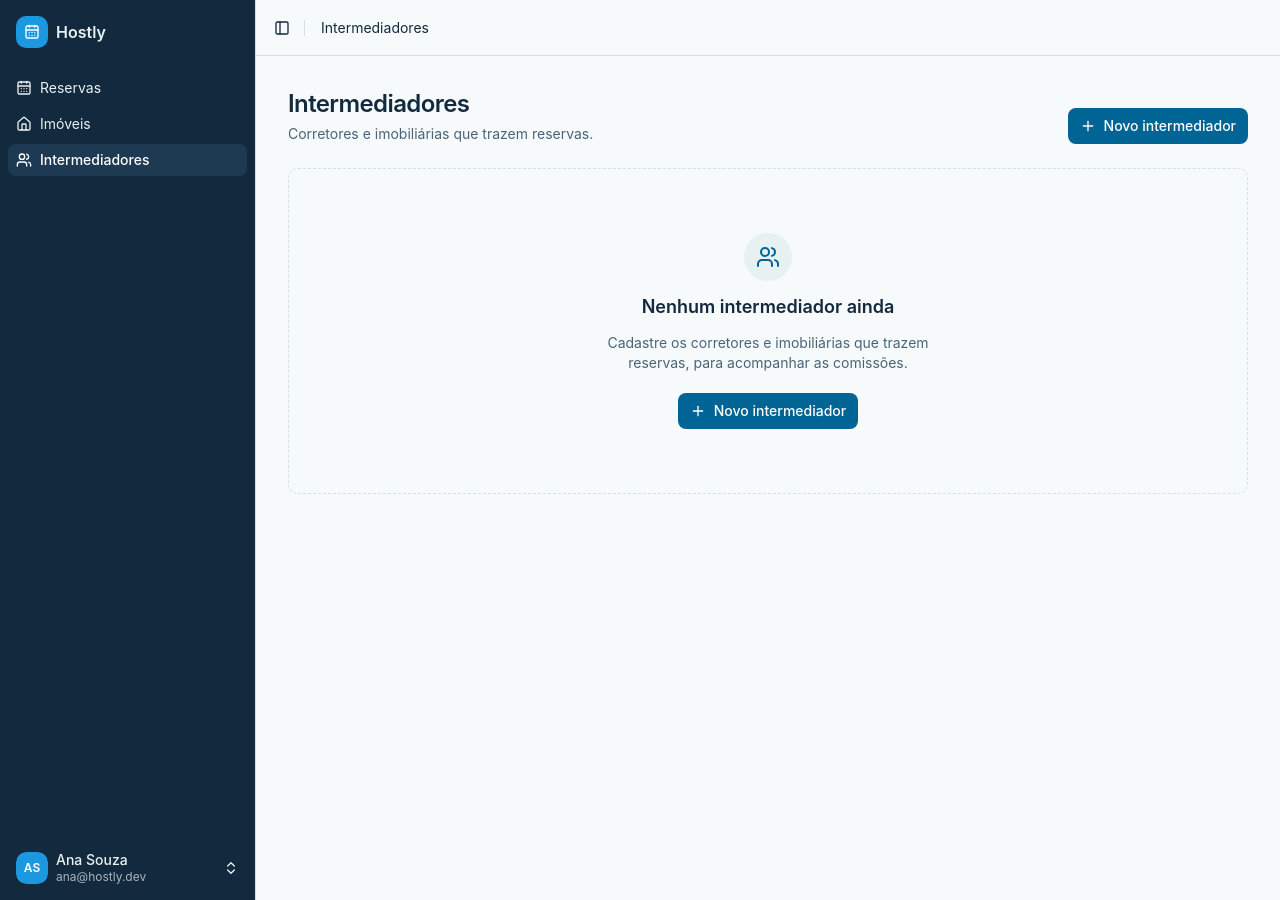
it: creating a broker › keeps an alphanumeric CNPJ through a switch to person and back
Expected: the heading "Intermediadores" is shown, [288,89,469,118]
Click the 1st button "Novo intermediador".
click(1158, 126)  # box [1068,108,1248,144]
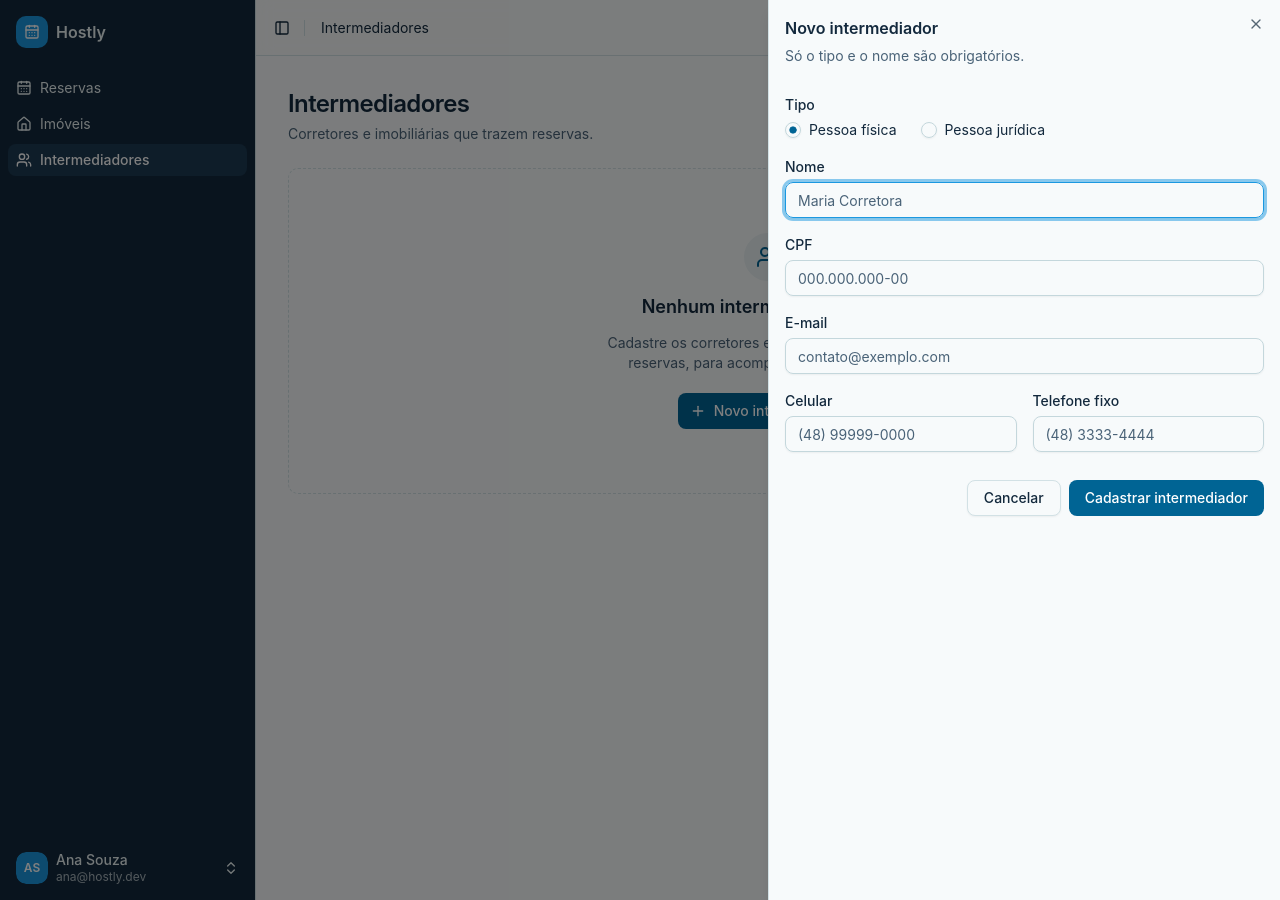
Click the radio button named "Pessoa jurídica" next to "Pessoa jurídica".
click(928, 130)  # box [920,122,936,138]
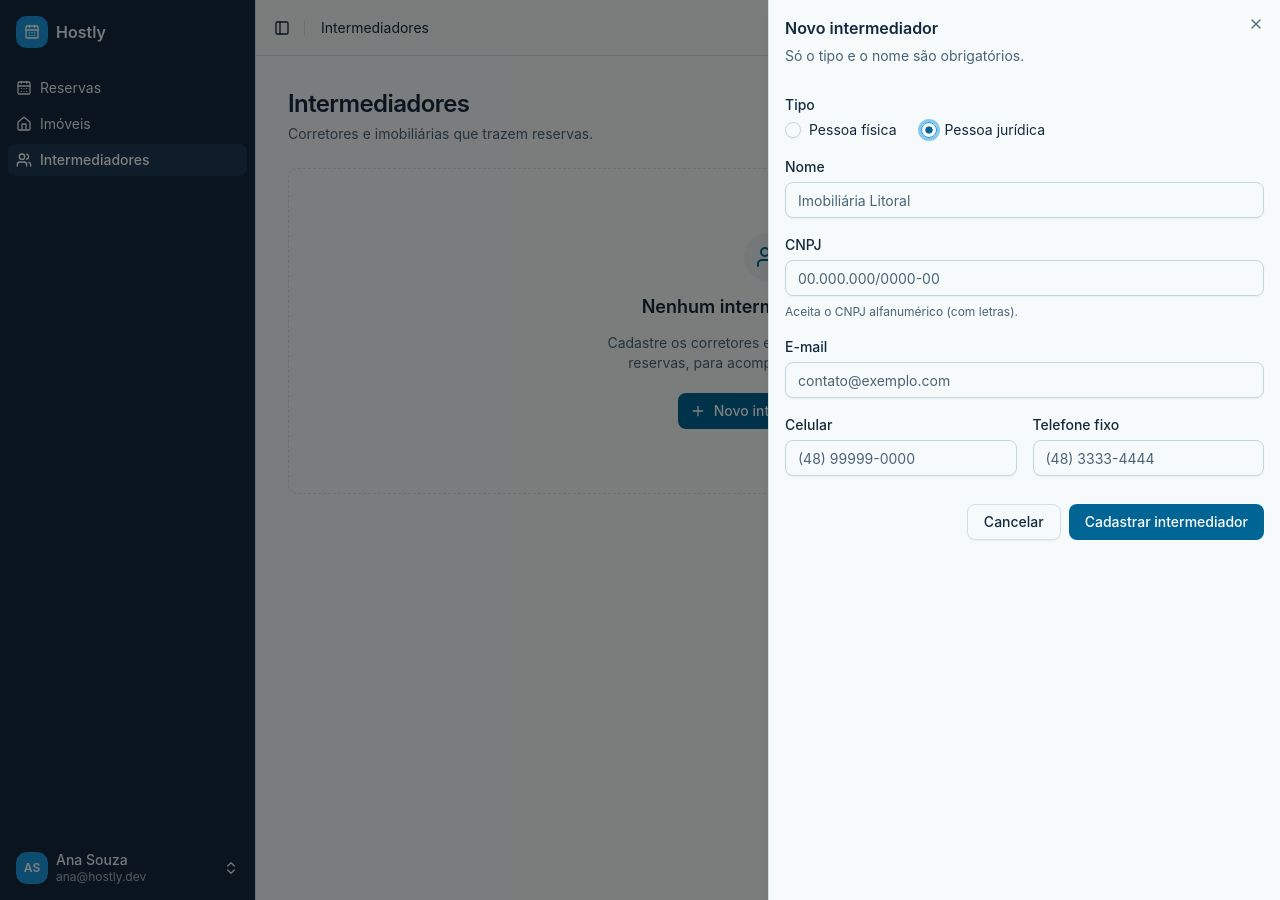
Type "12abc34501de35" into the field labelled "CNPJ".
click(1024, 278); type("12abc34501de35")  # box [785,260,1264,296]
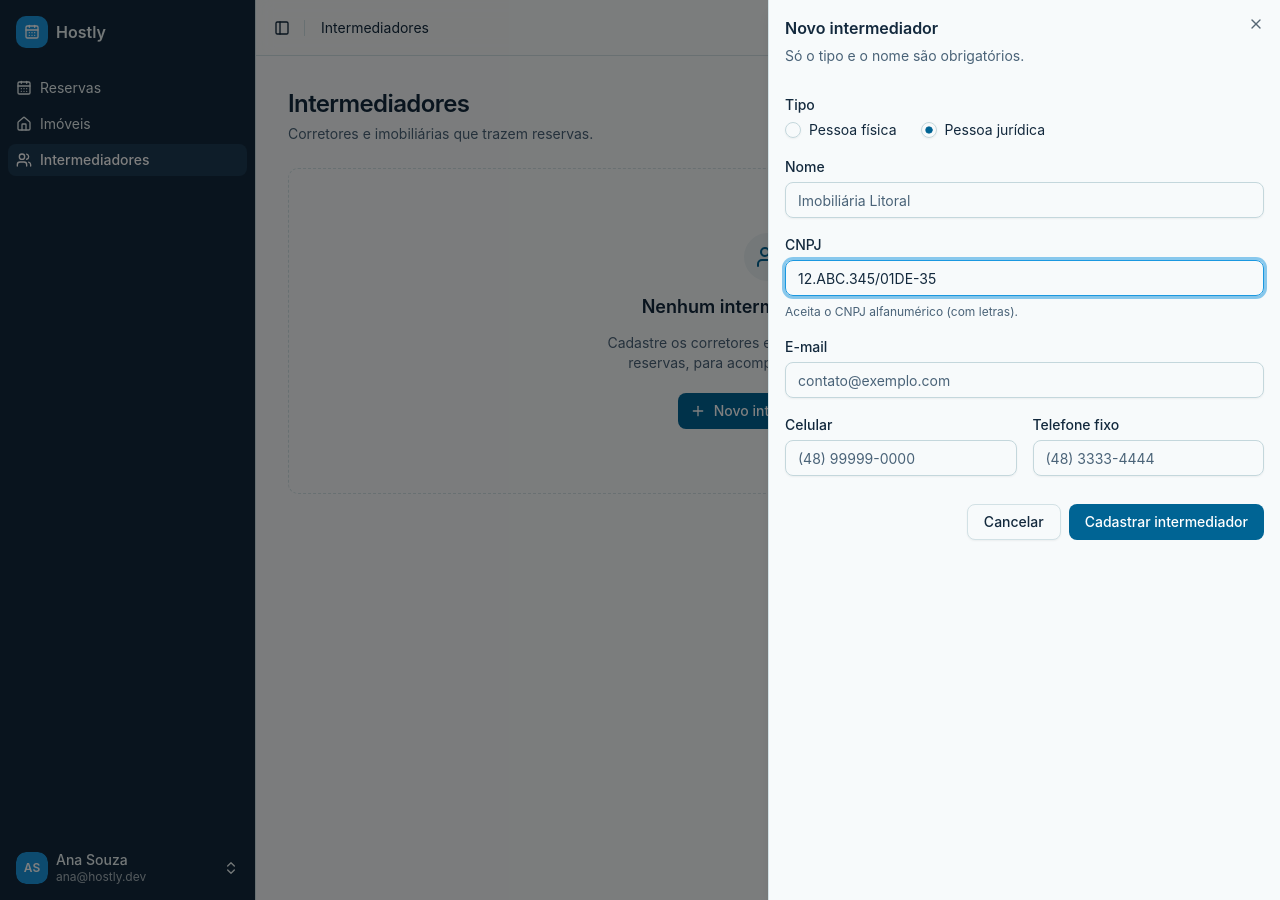
Click the radio button named "Pessoa física" next to "Pessoa física".
click(793, 130)  # box [785,122,801,138]
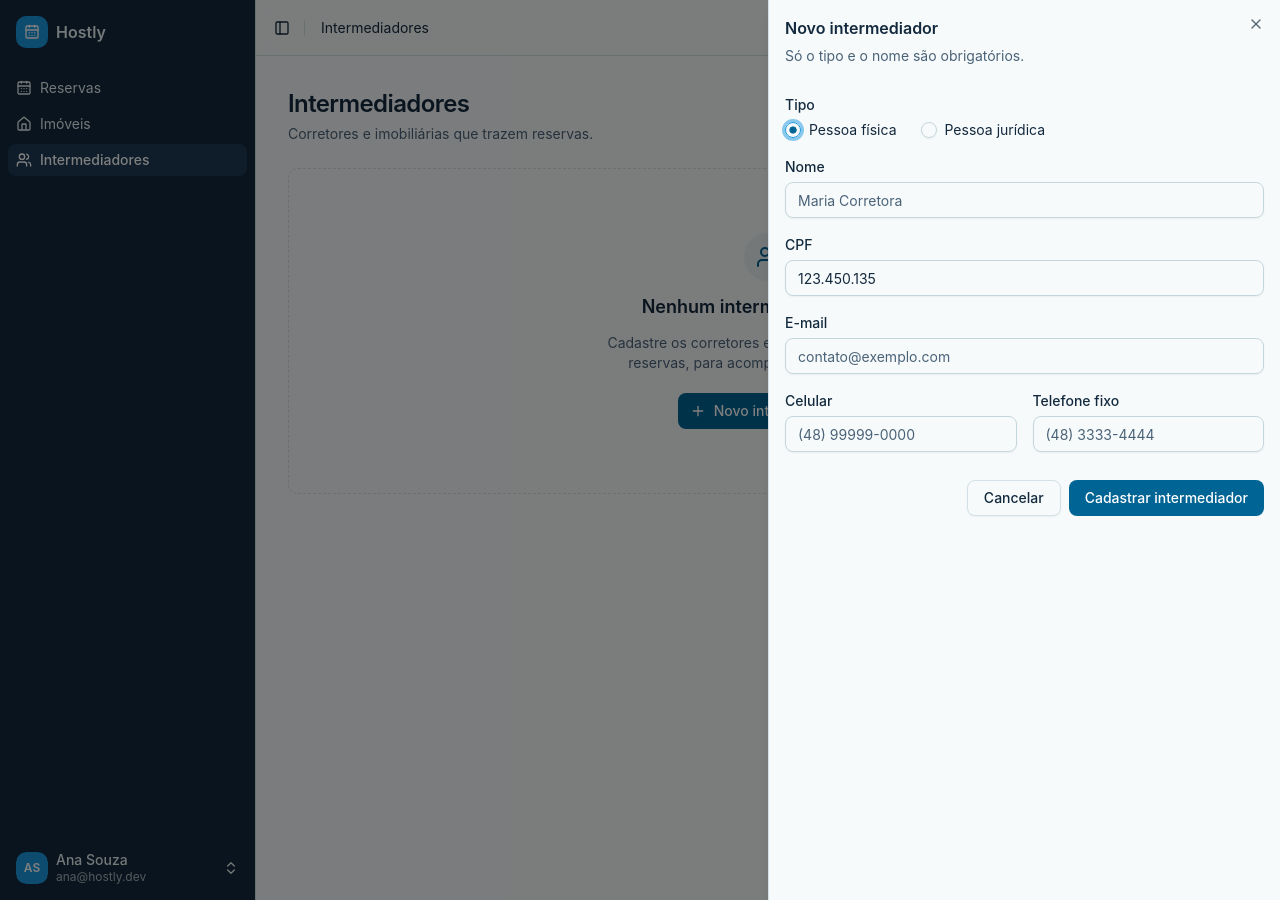
Click the radio button named "Pessoa jurídica" next to "Pessoa jurídica".
click(928, 130)  # box [920,122,936,138]
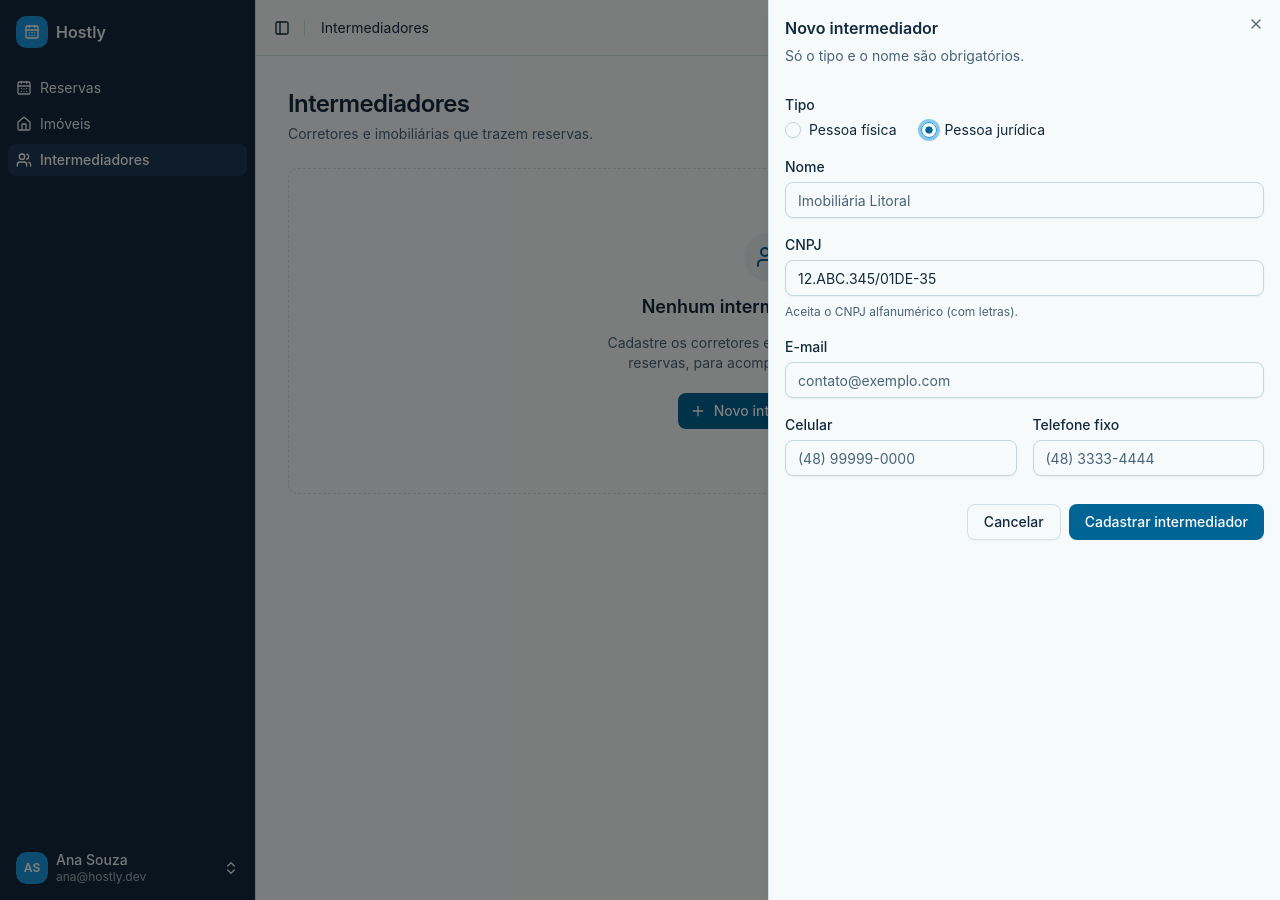
Expected: the field labelled "CNPJ" holds "12.ABC.345/01DE-35", [785,260,1264,296]
